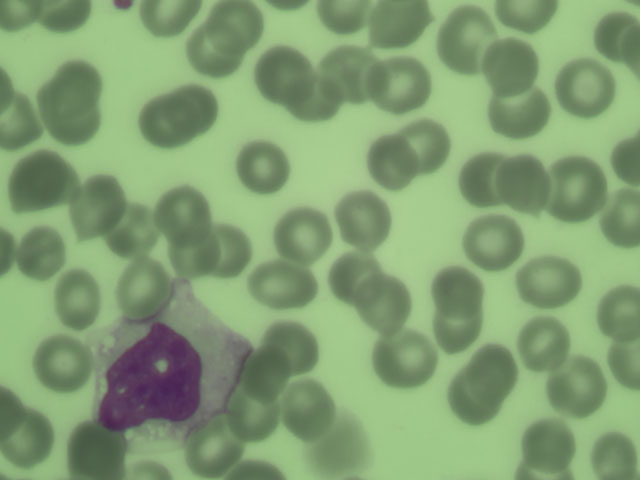RBC: (370, 1, 434, 47), (167, 80, 222, 132), (135, 99, 190, 151), (237, 142, 291, 194), (492, 84, 546, 136), (481, 39, 535, 91), (440, 14, 494, 66), (558, 63, 612, 115), (276, 205, 330, 257), (254, 257, 308, 309), (282, 382, 336, 434), (264, 320, 318, 372), (238, 348, 292, 400), (226, 386, 280, 438), (186, 421, 240, 473), (34, 340, 88, 392), (47, 273, 101, 325), (15, 226, 69, 278), (118, 261, 172, 313), (204, 225, 258, 277), (167, 229, 221, 281), (155, 186, 209, 238), (104, 206, 158, 258), (67, 181, 121, 233), (13, 153, 67, 205), (46, 93, 100, 145), (53, 60, 107, 112), (377, 334, 431, 386), (357, 280, 411, 332), (330, 252, 384, 304), (337, 192, 391, 244), (548, 161, 602, 213), (499, 157, 553, 209), (454, 154, 508, 206), (400, 119, 454, 171), (368, 133, 422, 185), (374, 57, 428, 109), (323, 47, 377, 99), (287, 73, 341, 125), (253, 48, 307, 100), (189, 24, 243, 76), (446, 375, 500, 427), (467, 341, 521, 393), (524, 421, 578, 473), (586, 428, 640, 480), (551, 359, 605, 411), (518, 316, 572, 368), (522, 254, 576, 306), (431, 304, 485, 356), (429, 265, 483, 317), (469, 215, 523, 267), (1, 410, 54, 462), (69, 428, 123, 479), (208, 1, 262, 52), (1, 87, 43, 150), (597, 283, 640, 340), (599, 192, 640, 246), (314, 1, 372, 37), (594, 13, 640, 58), (500, 1, 557, 37), (138, 1, 198, 34), (609, 331, 640, 389), (605, 136, 640, 186), (38, 1, 90, 31), (1, 1, 43, 37), (1, 390, 30, 440), (122, 452, 173, 479), (226, 459, 290, 480)
WBC: (92, 319, 230, 433)
